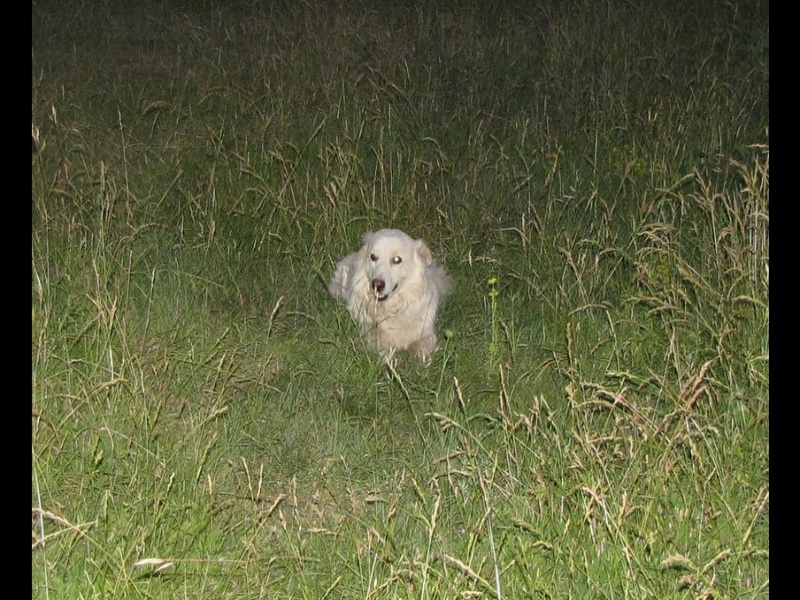dog: (323, 223, 452, 377)
